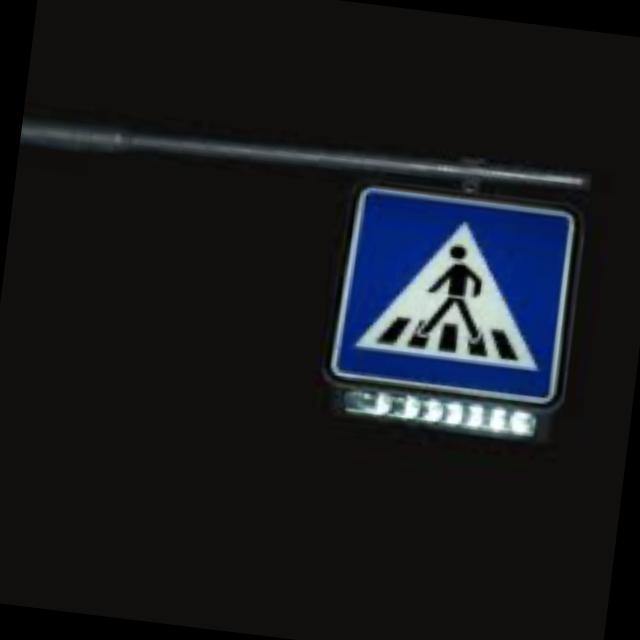crosswalk-sign: (327, 180, 586, 413)
